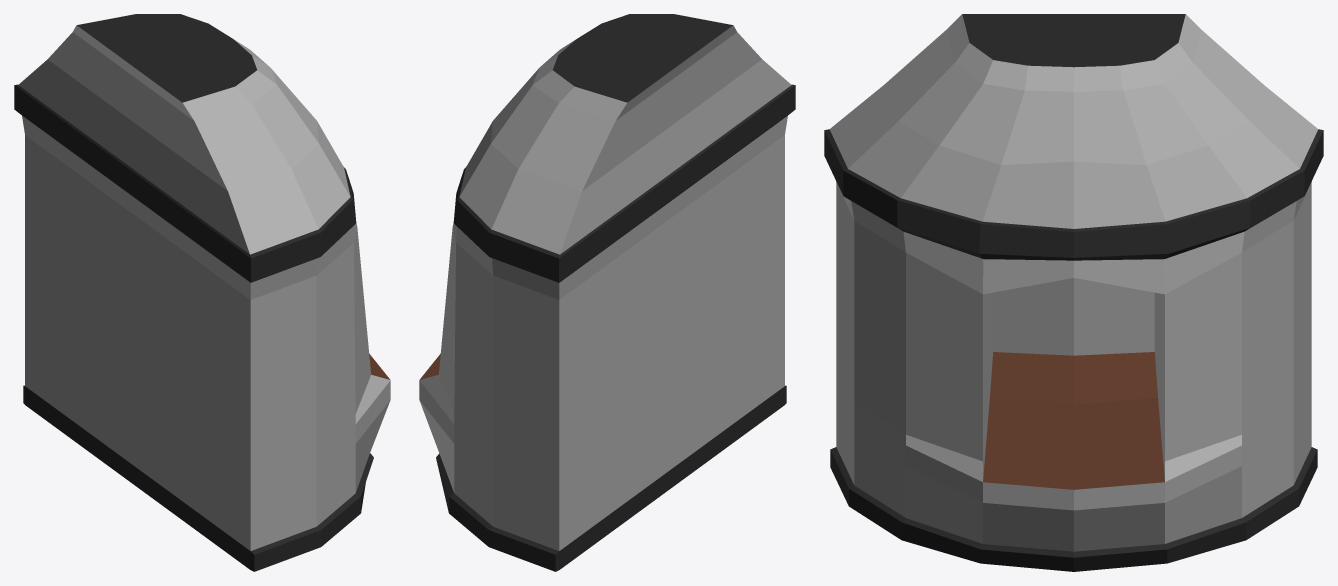
The model's file is oven.fbx.
3 views of the same model, side by side, from view 1: azimuth 30°, elevation 25°; view 2: azimuth 150°, elevation 25°; view 3: azimuth 270°, elevation 25° (orthographic). The views are drawn at different scales.
Visible parts, largest first — view 1: Cylinder; view 2: Cylinder; view 3: Cylinder.
Part boxes in pixels (bbox=[...]): Cylinder: bbox=[14, 14, 390, 571]; Cylinder: bbox=[419, 14, 795, 571]; Cylinder: bbox=[824, 14, 1323, 571].
Size of the model in its own units: 119 by 209 by 210.
